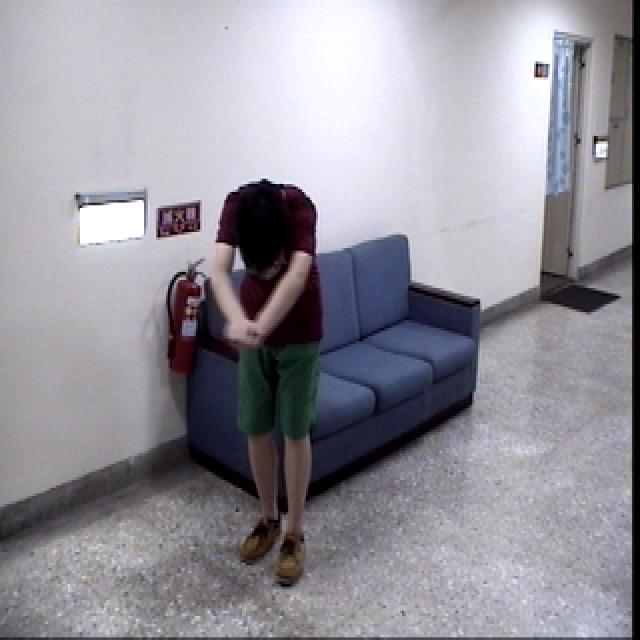bend: (198, 167, 323, 596)
